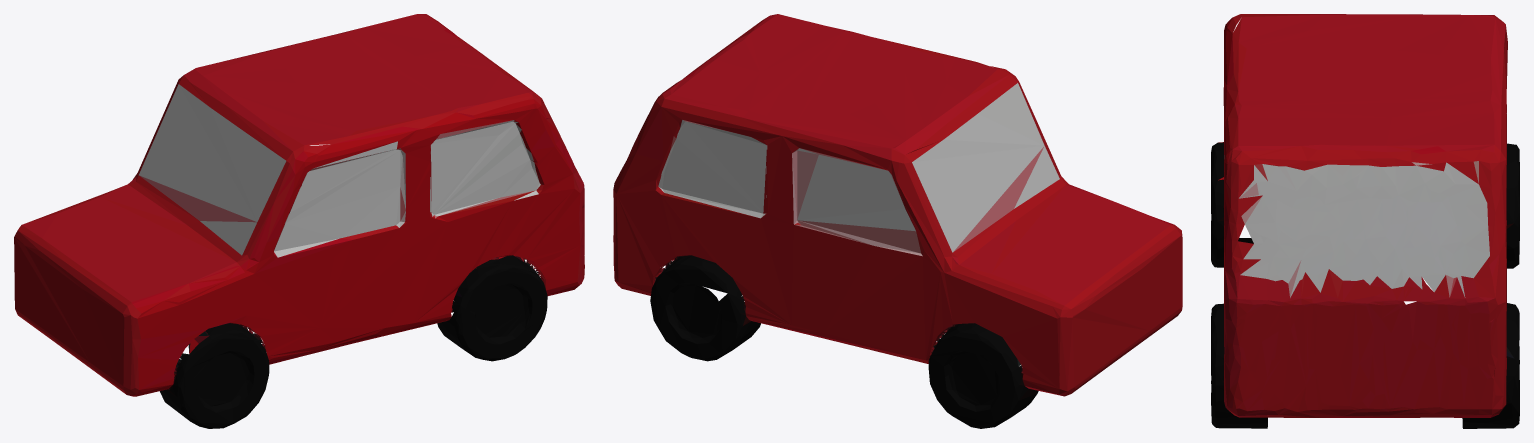
The model's file is m-cruza-auto.glb.
3 renders of one model, left to right at view 1: azimuth 30°, elevation 25°; view 2: azimuth 150°, elevation 25°; view 3: azimuth 270°, elevation 25°, orthographic. The views are drawn at different scales.
Bounding box in the file's own units: 1.9 × 0.9928 × 0.9323.
